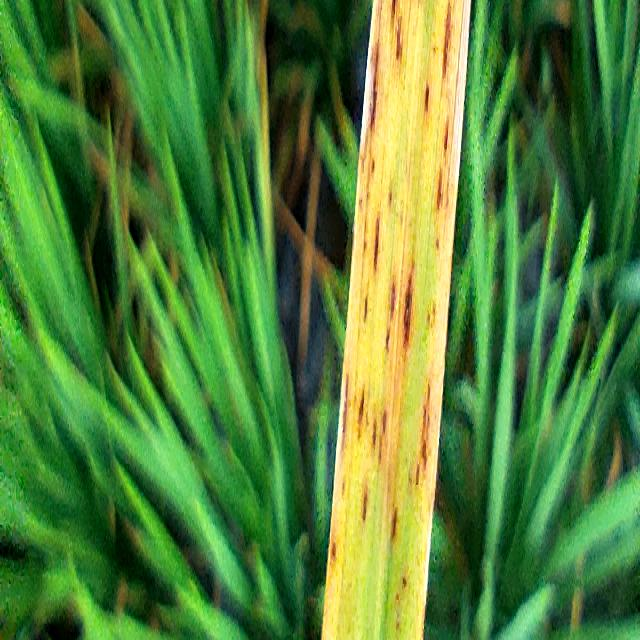NBS: (403, 264, 413, 346), (442, 3, 452, 78), (343, 375, 349, 434), (373, 218, 379, 268), (358, 388, 364, 435), (390, 281, 396, 323), (436, 174, 442, 209), (396, 18, 401, 60), (421, 439, 427, 469), (392, 505, 397, 539), (444, 119, 449, 151), (385, 326, 390, 356), (363, 486, 367, 521), (425, 79, 429, 114), (364, 294, 368, 325), (373, 415, 376, 451), (391, 0, 396, 20), (382, 410, 386, 434), (416, 464, 420, 487), (379, 436, 381, 463)
